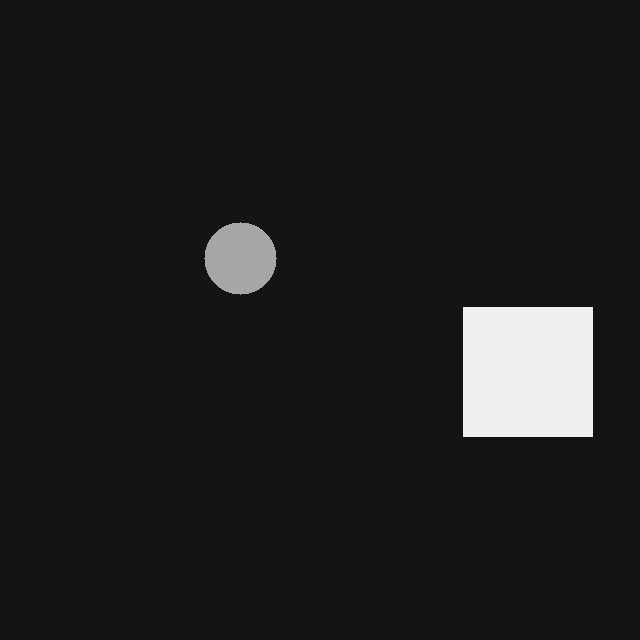circle: (204, 222, 276, 294)
square: (463, 307, 592, 436)
